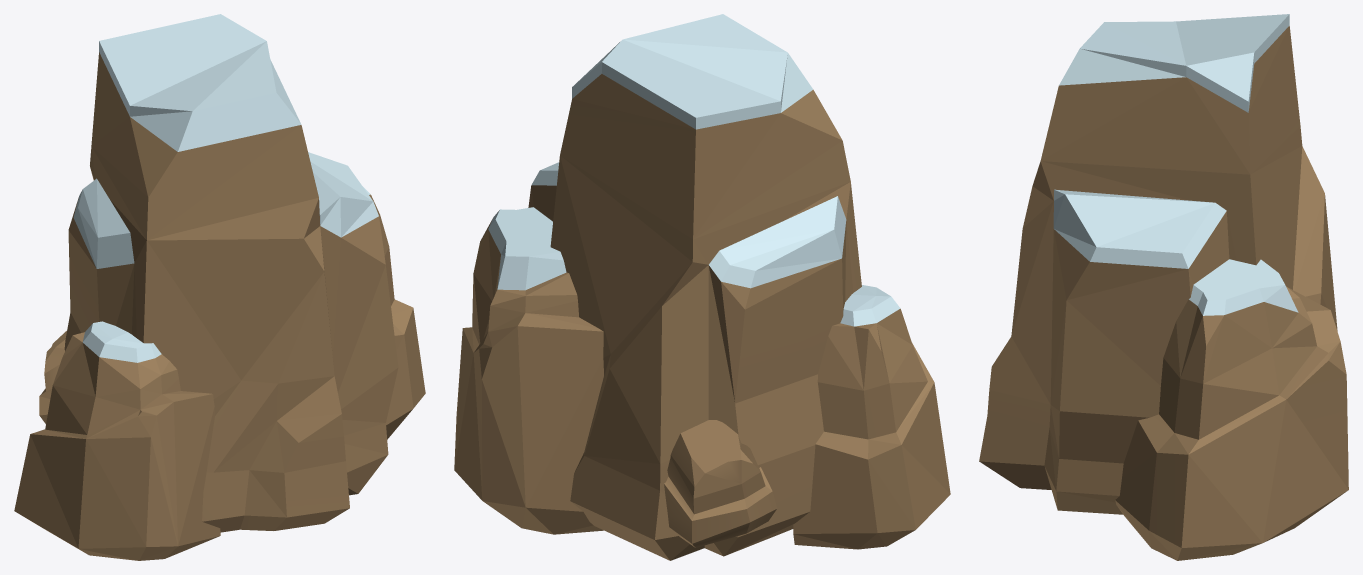
Rendered from SM_Env_RockPile_01_Snow.glb.
3 renders of one model, left to right at view 1: azimuth 30°, elevation 25°; view 2: azimuth 150°, elevation 25°; view 3: azimuth 270°, elevation 25°, orthographic. The views are drawn at different scales.
Parts seen in each view (by area): view 1: SM_Env_RockPile_01_Snow; view 2: SM_Env_RockPile_01_Snow; view 3: SM_Env_RockPile_01_Snow.
Part boxes in pixels (bbox=[...]): SM_Env_RockPile_01_Snow: bbox=[14, 14, 425, 560]; SM_Env_RockPile_01_Snow: bbox=[454, 14, 950, 560]; SM_Env_RockPile_01_Snow: bbox=[979, 14, 1348, 560].
Size of the model in its own units: 6.33 by 6.33 by 4.66.
Materials: 1 (1 with a texture image).
